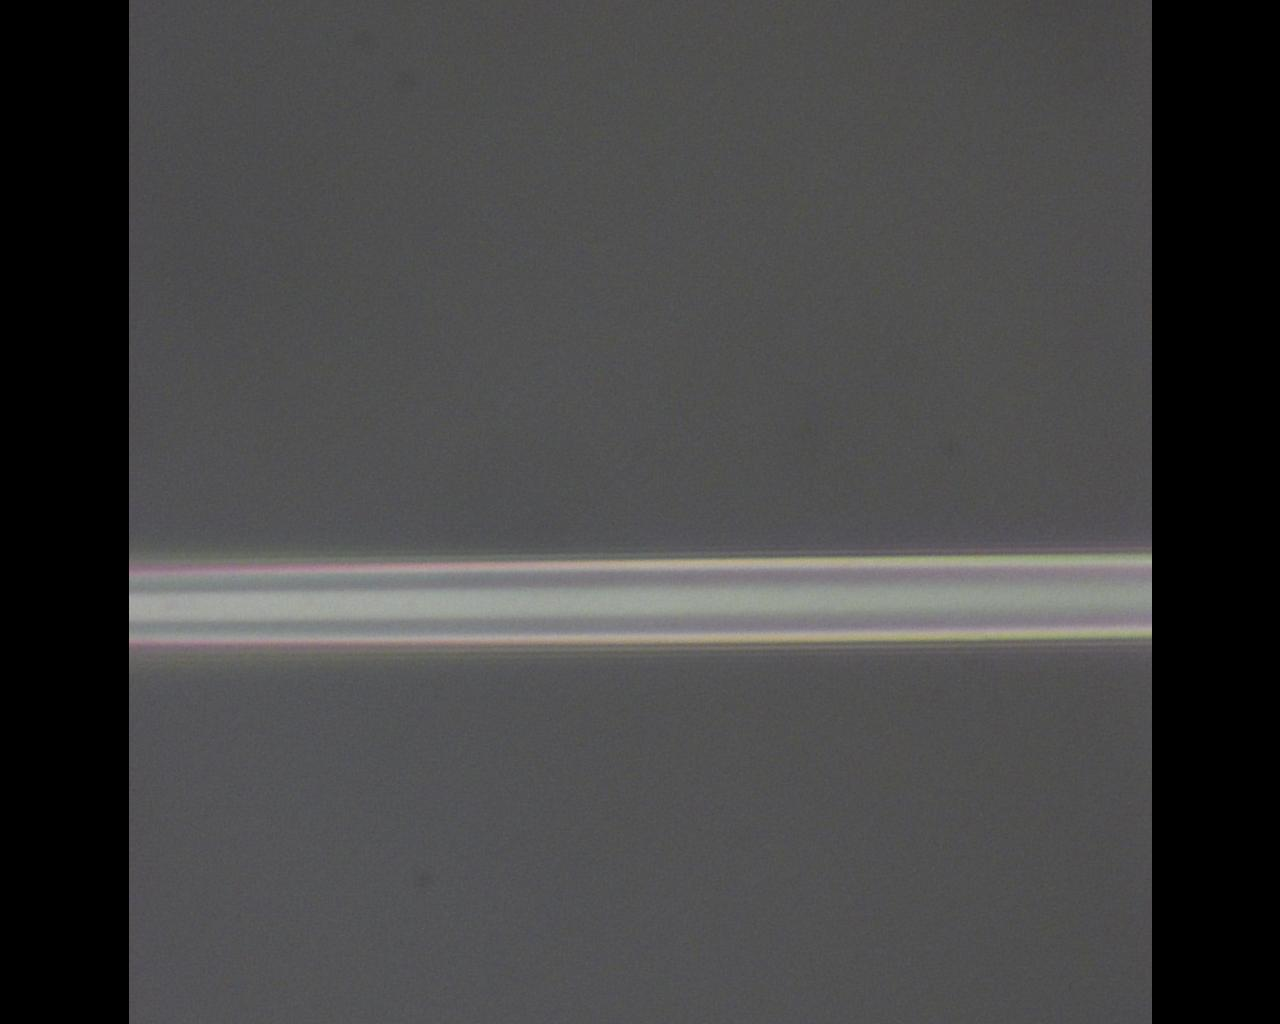fiber: (127, 550, 1151, 651)
